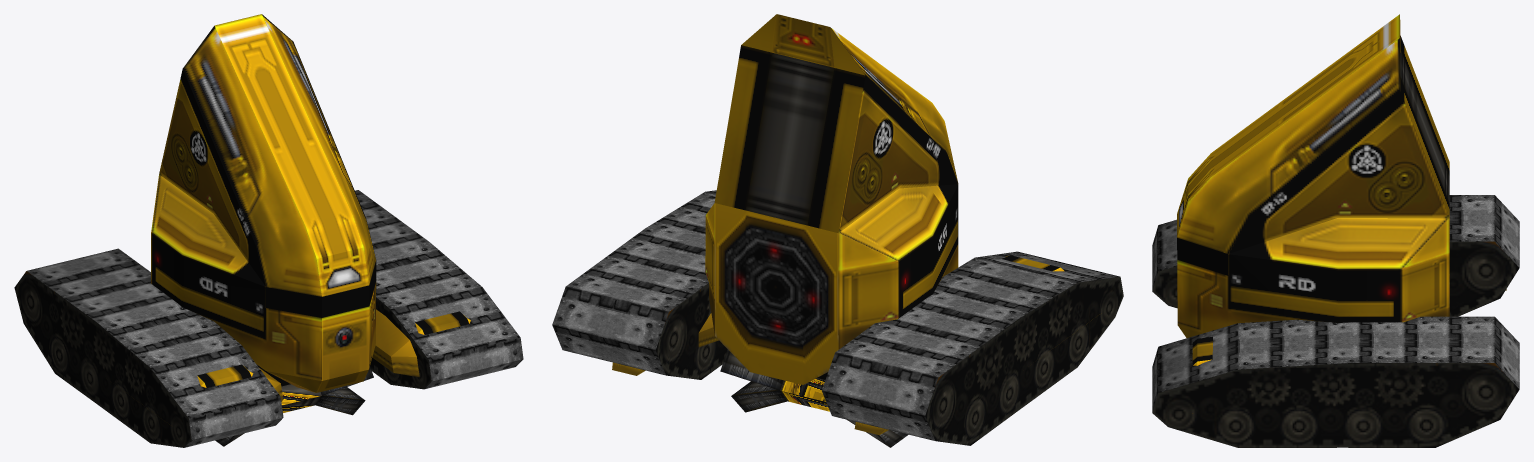
Rendered from version2-Scavenger_t.4-0.obj.
The picture shows the model from 3 angles, left to right: view 1: azimuth 30°, elevation 25°; view 2: azimuth 150°, elevation 25°; view 3: azimuth 270°, elevation 25°; orthographic projection. The views are drawn at different scales.
Parts seen in each view (by area): view 1: Scavenger_t-main_body.1-0, Scavenger_t-tractor_l__h.1-0, Scavenger_t-tractor_r__h.2-0, Scavenger_t-tread_l.1-0, Scavenger_t-mudflap.1-0, Scavenger_t-cockpit.1-0, Scavenger_t-obj3_2_1.2-0, Scavenger_t-tread_r.1-0; view 2: Scavenger_t-main_body.1-0, Scavenger_t-tractor_l__h.1-0, Scavenger_t-tractor_r__h.2-0, Scavenger_t-tread_l.1-0, Scavenger_t-tread_r.1-0, Scavenger_t-obj3_2_1.2-0, Scavenger_t-mudflap.1-0; view 3: Scavenger_t-main_body.1-0, Scavenger_t-tread_r.1-0, Scavenger_t-tractor_r__h.2-0, Scavenger_t-tread_l.1-0, Scavenger_t-tractor_l__h.1-0, Scavenger_t-cockpit.1-0, Scavenger_t-mudflap.1-0.
Part boxes in pixels (x1,y1,x2,y2): Scavenger_t-main_body.1-0: (151, 14, 376, 392); Scavenger_t-tractor_l__h.1-0: (27, 248, 283, 447); Scavenger_t-tractor_r__h.2-0: (355, 190, 523, 389); Scavenger_t-tread_l.1-0: (14, 271, 191, 447); Scavenger_t-mudflap.1-0: (133, 309, 470, 424); Scavenger_t-cockpit.1-0: (266, 261, 376, 317); Scavenger_t-obj3_2_1.2-0: (215, 366, 373, 446); Scavenger_t-tread_r.1-0: (370, 297, 431, 389); Scavenger_t-main_body.1-0: (705, 14, 958, 384); Scavenger_t-tractor_l__h.1-0: (821, 251, 1119, 440); Scavenger_t-tractor_r__h.2-0: (552, 190, 716, 375); Scavenger_t-tread_l.1-0: (925, 276, 1123, 445); Scavenger_t-tread_r.1-0: (655, 283, 727, 379); Scavenger_t-obj3_2_1.2-0: (720, 349, 908, 447); Scavenger_t-mudflap.1-0: (612, 255, 1101, 435); Scavenger_t-main_body.1-0: (1177, 14, 1449, 337); Scavenger_t-tread_r.1-0: (1152, 363, 1519, 447); Scavenger_t-tractor_r__h.2-0: (1152, 316, 1519, 412); Scavenger_t-tread_l.1-0: (1152, 241, 1519, 316); Scavenger_t-tractor_l__h.1-0: (1152, 195, 1519, 290); Scavenger_t-cockpit.1-0: (1177, 238, 1228, 275); Scavenger_t-mudflap.1-0: (1177, 289, 1506, 413).
Bounding box in the file's own units: 8.04 × 8.66 × 7.42.
10 materials, 10 textured.
